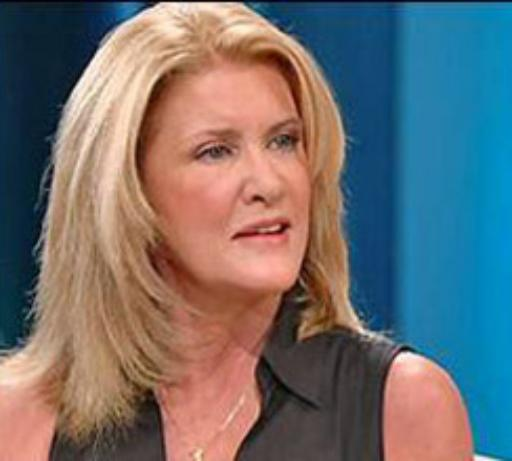left_eye: (264, 132, 301, 153)
left_lip_corner: (285, 215, 295, 241)
right_eye: (192, 143, 232, 165)
right_lip_corner: (230, 231, 244, 245)
